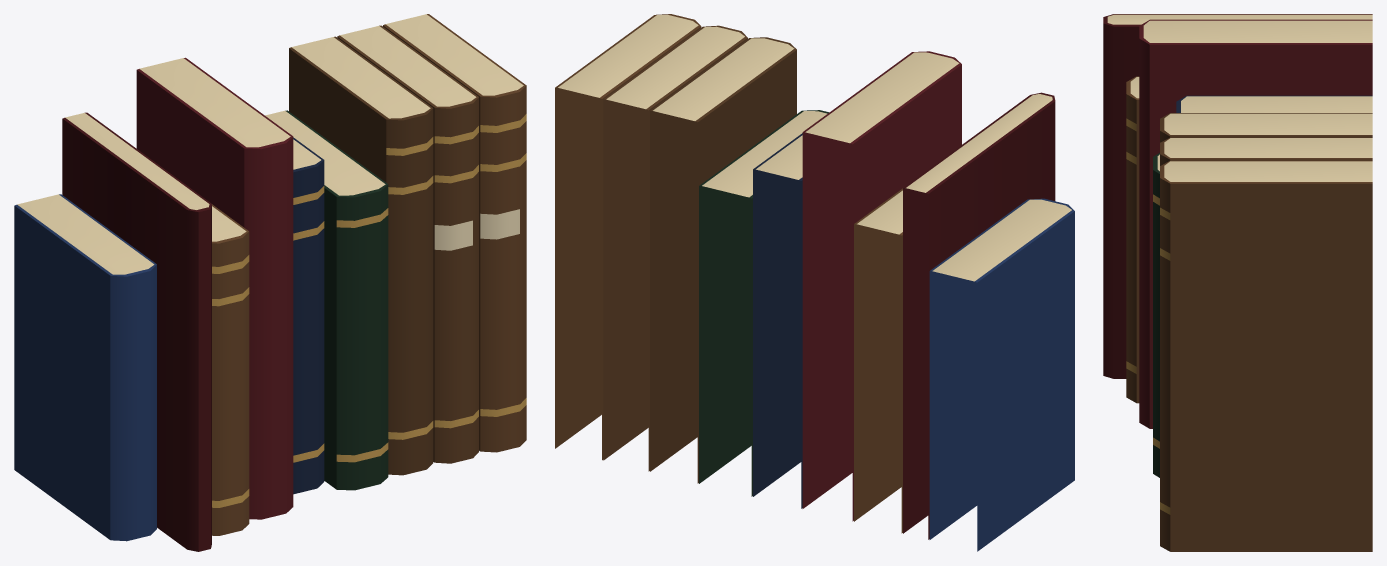
The model's file is bookrow_tall_3.glb.
The picture shows the model from 3 angles, left to right: view 1: azimuth 30°, elevation 25°; view 2: azimuth 150°, elevation 25°; view 3: azimuth 270°, elevation 25°; orthographic projection. The views are drawn at different scales.
Parts seen in each view (by area): view 1: bookrow_tall_3; view 2: bookrow_tall_3; view 3: bookrow_tall_3.
Part boxes in pixels (box(x1,y1,x2,y2)): bookrow_tall_3: box(14, 14, 526, 551); bookrow_tall_3: box(555, 14, 1074, 551); bookrow_tall_3: box(1103, 14, 1372, 551).
Size of the model in its own units: 0.4894 by 0.4184 by 0.2657.
